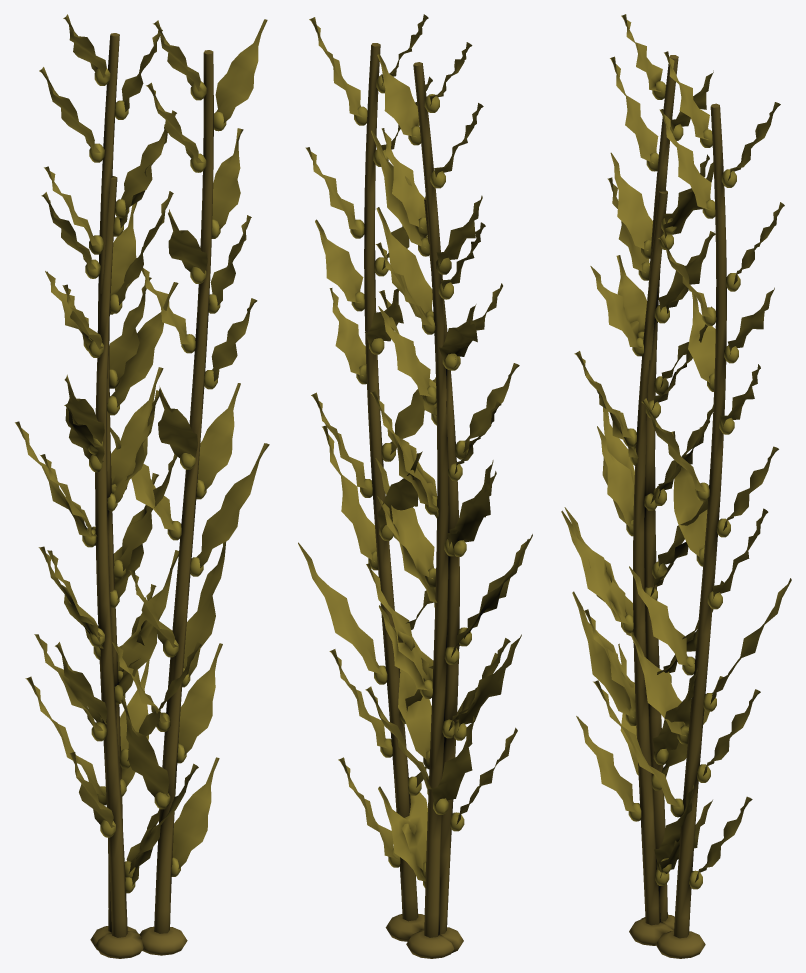
Rendered from kelp_tall.glb.
3 renders of one model, left to right at view 1: azimuth 30°, elevation 25°; view 2: azimuth 150°, elevation 25°; view 3: azimuth 330°, elevation 25°, orthographic. The views are drawn at different scales.
Parts seen in each view (by area): view 1: kelp_tall_mesh; view 2: kelp_tall_mesh; view 3: kelp_tall_mesh.
Boxes of the visible parts, x1,y1,x2,y2 form: kelp_tall_mesh: (15,14,269,958); kelp_tall_mesh: (298,14,532,958); kelp_tall_mesh: (561,14,791,958).
Size of the model in its own units: 2.22 by 8.8 by 1.03.
